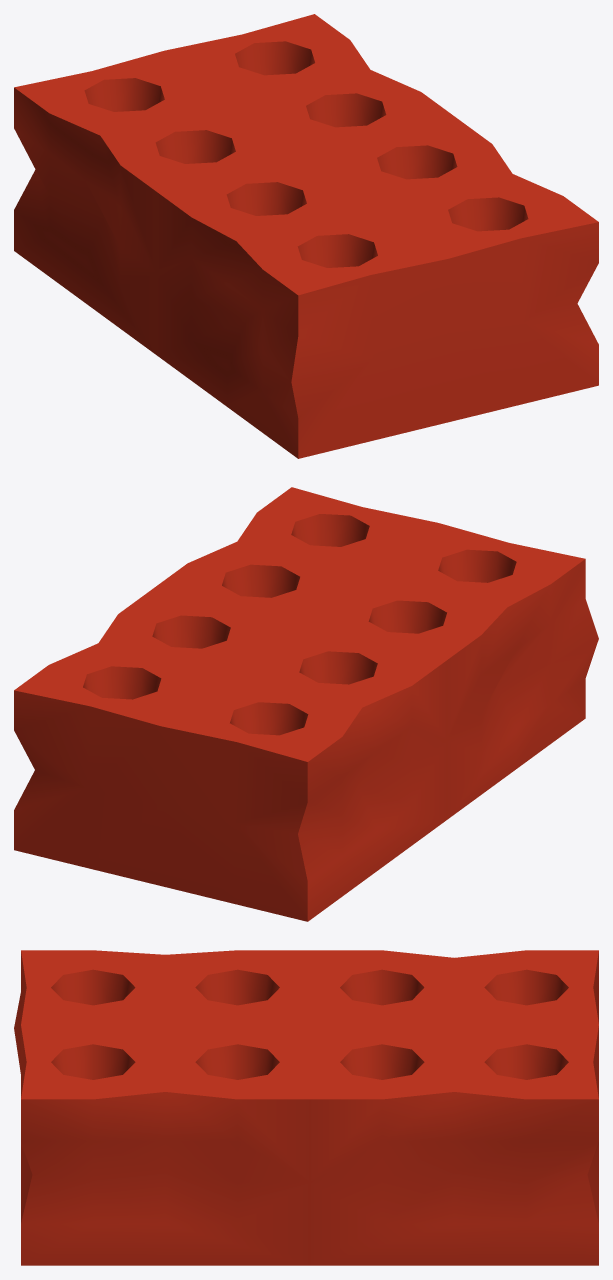
File: Brick.fbx
The picture shows the model from 3 angles, top to bottom: view 1: azimuth 30°, elevation 25°; view 2: azimuth 150°, elevation 25°; view 3: azimuth 270°, elevation 25°; orthographic projection. The views are drawn at different scales.
Parts seen in each view (by area): view 1: Brick; view 2: Brick; view 3: Brick.
Part boxes in pixels (<box>): Brick: <box>14,14,598,458</box>; Brick: <box>14,487,598,921</box>; Brick: <box>14,950,598,1265</box>.
Bounding box in the file's own units: 16.53 × 26.49 × 8.31.
